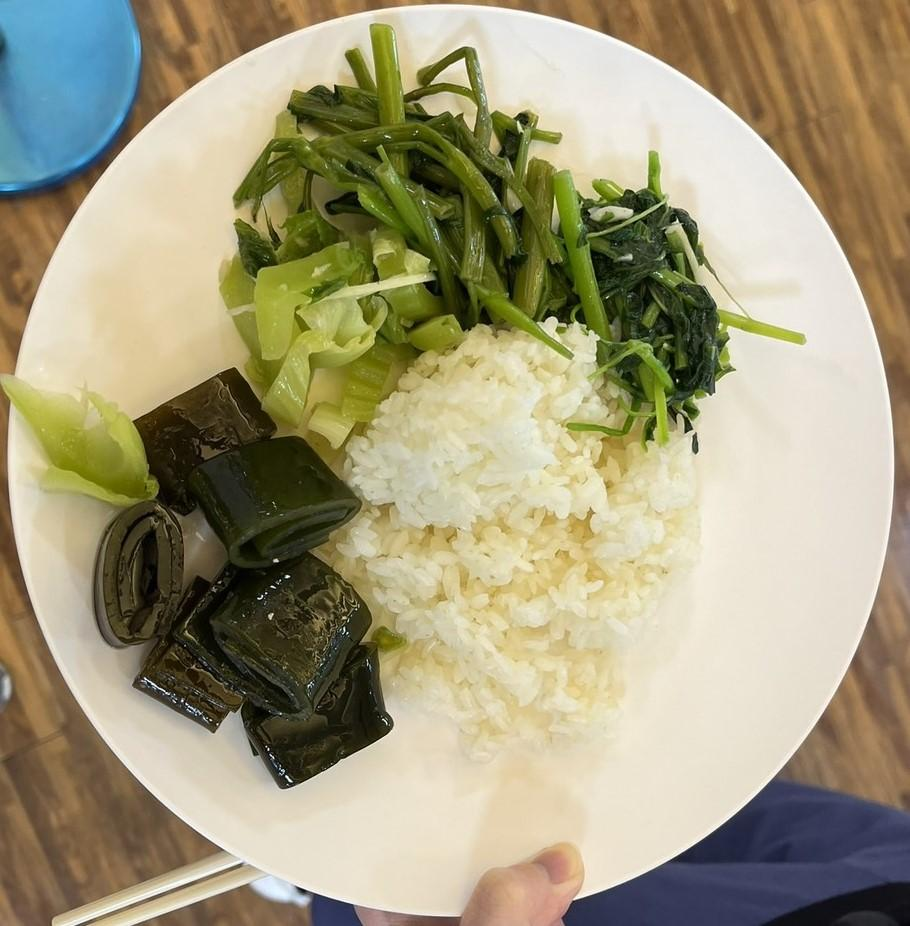big fried chicken leg: (6, 2, 910, 926)
big herbal chicken leg: (346, 311, 699, 747)
braised fish fillet: (236, 21, 731, 427), (92, 368, 399, 782), (7, 244, 452, 499)
